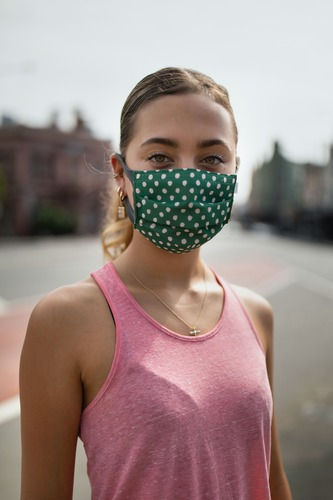with_mask: (127, 114, 236, 251)
